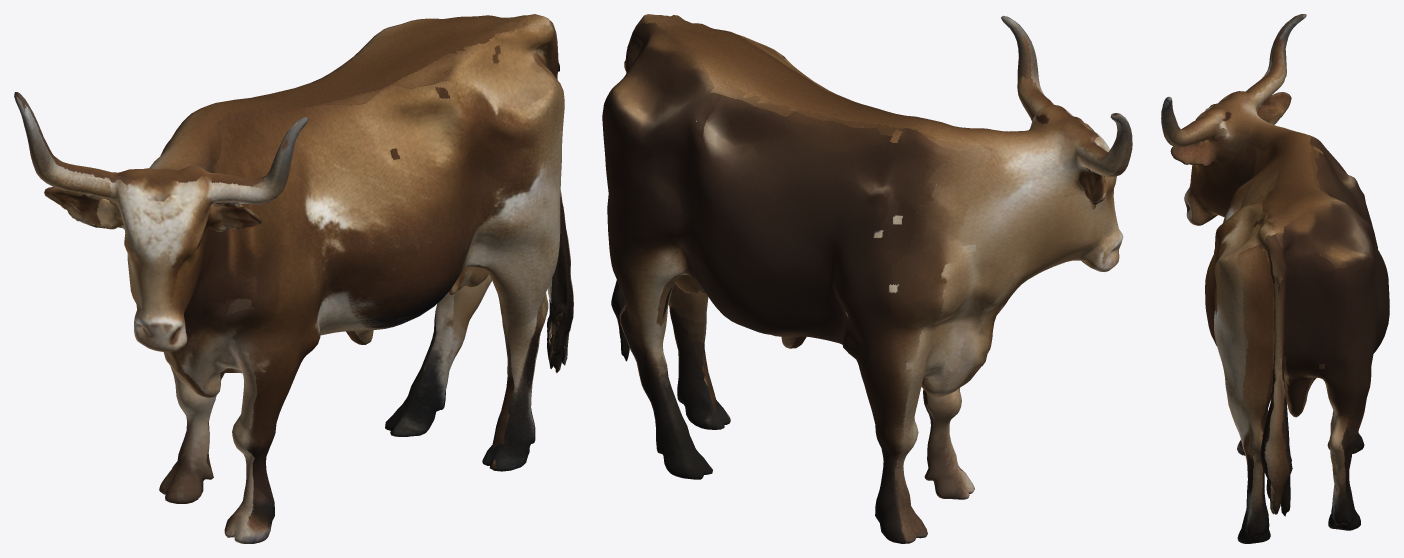
The model's file is vaca_parada.glb.
3 renders of one model, left to right at view 1: azimuth 30°, elevation 25°; view 2: azimuth 150°, elevation 25°; view 3: azimuth 270°, elevation 25°, orthographic. The views are drawn at different scales.
Parts seen in each view (by area): view 1: temp_mesh.ply; view 2: temp_mesh.ply; view 3: temp_mesh.ply.
Boxes of the visible parts, bbox=[...] form: temp_mesh.ply: bbox=[14, 14, 573, 543]; temp_mesh.ply: bbox=[602, 14, 1132, 543]; temp_mesh.ply: bbox=[1161, 14, 1389, 543].
Size of the model in its own units: 2.2 by 1.83 by 1.04.
1 material, 1 textured.
